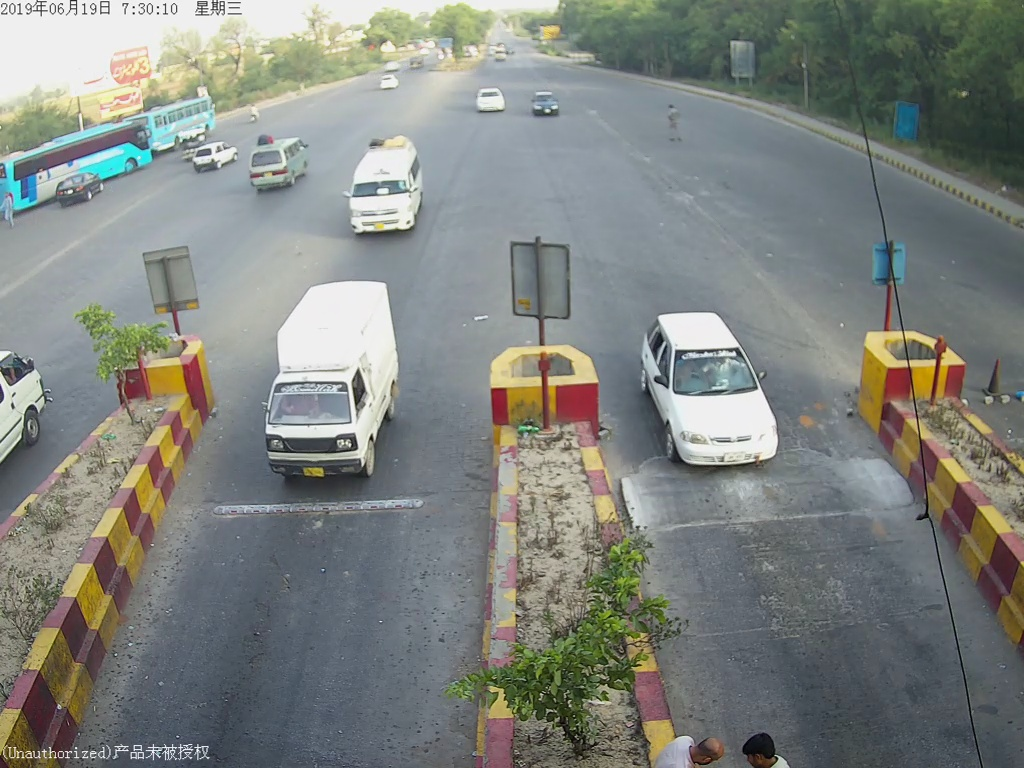Cat-1: (260, 278, 421, 497), (634, 302, 790, 479)
Cat-2: (340, 141, 433, 247)
